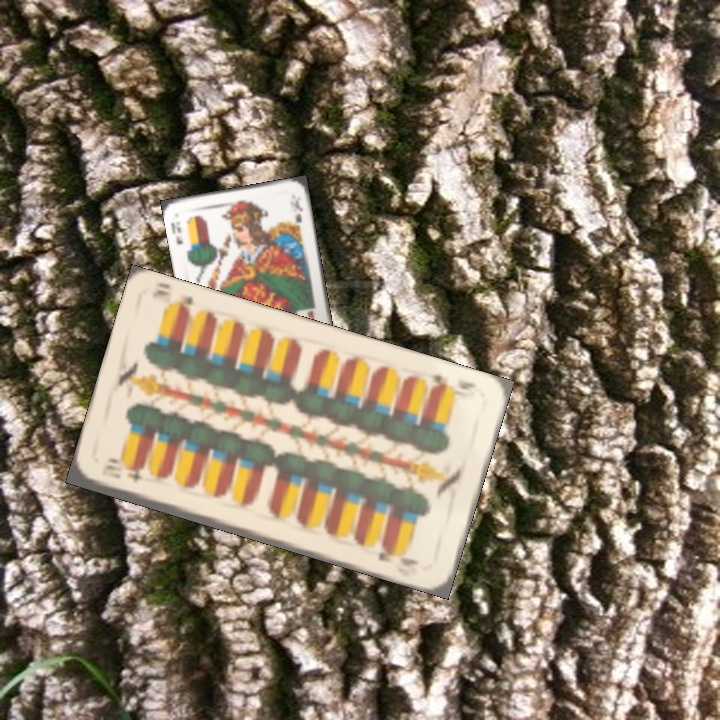E10: (427, 370, 479, 398), (98, 460, 146, 485)
EK: (167, 217, 185, 247)
